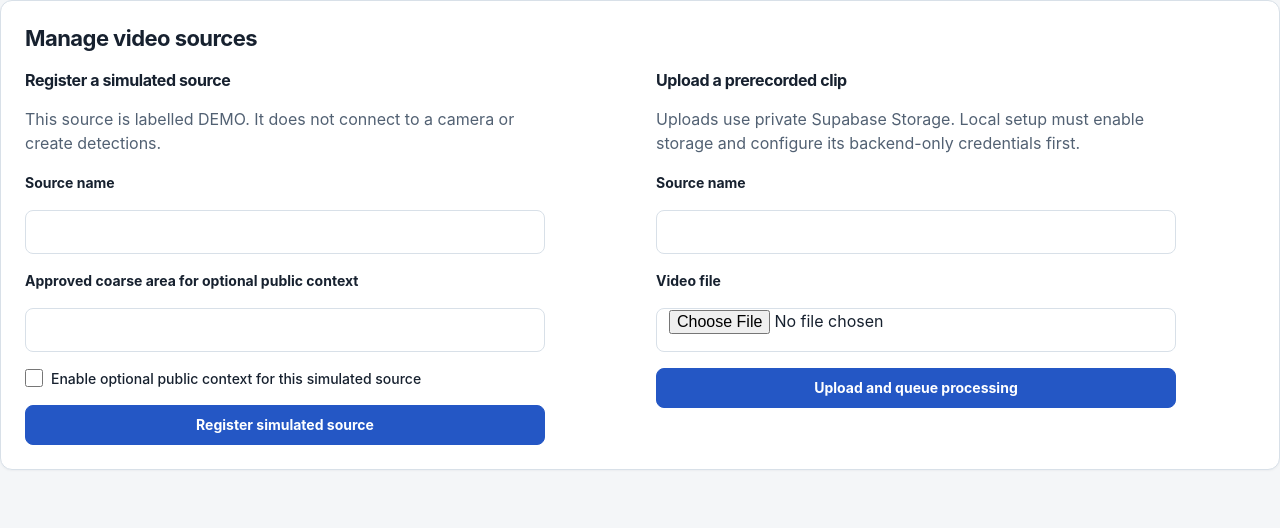
Scenario: SourceAdminPanel › registers a simulated source and identifies it as DEMO
Type "Demo source" into the field labelled "Source name" below "Register a simulated source" at (285, 232), box [25,210,545,254]
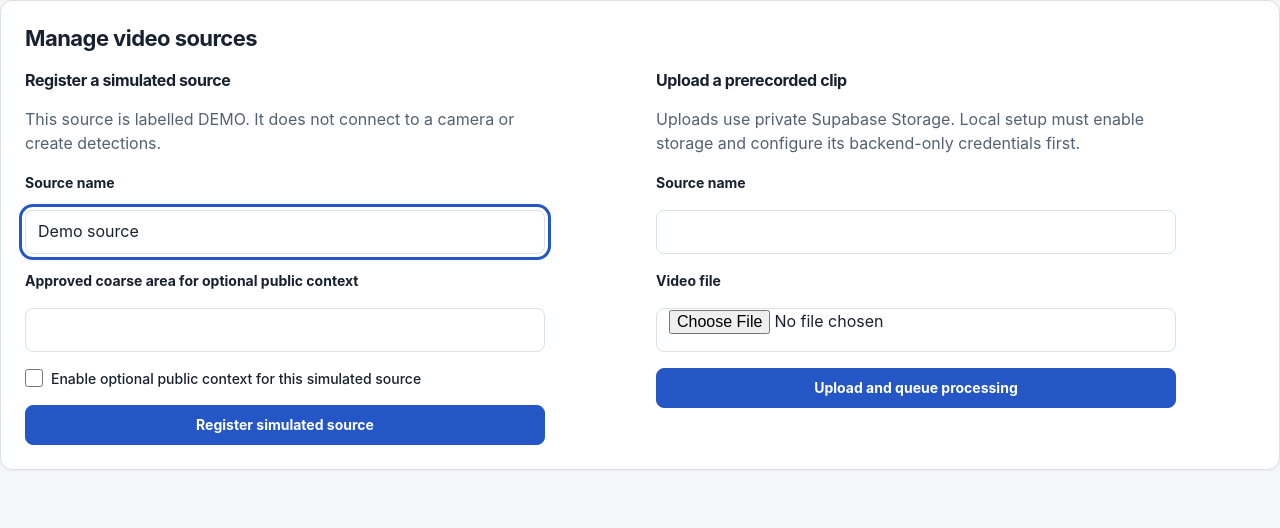
Click the button "Register simulated source" at (285, 425), box [25,405,545,445]
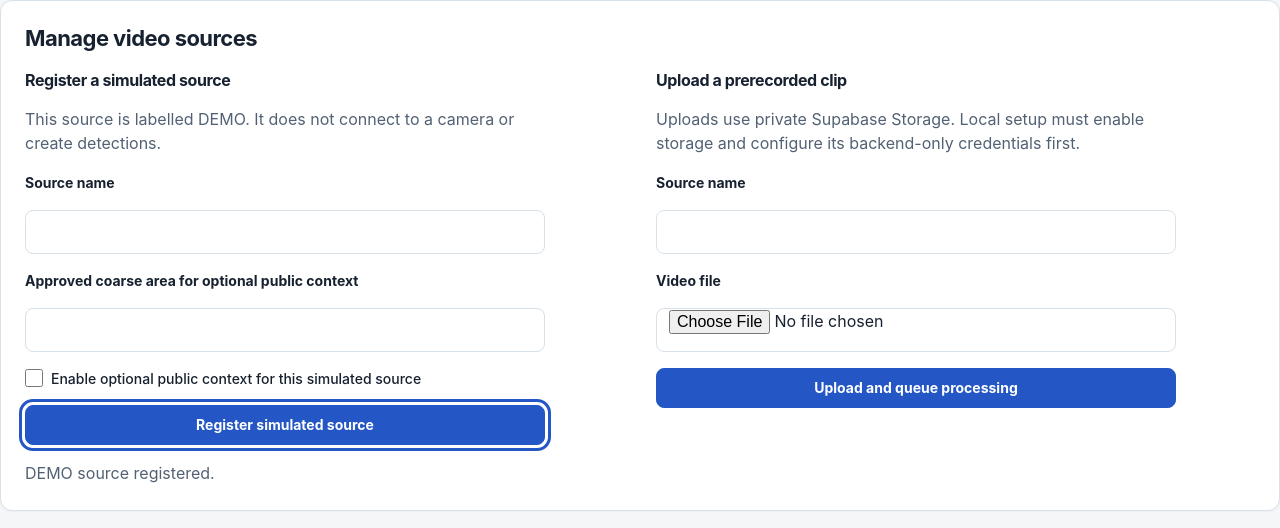
Check: the message reads "DEMO source registered.", box [25,463,215,483]
